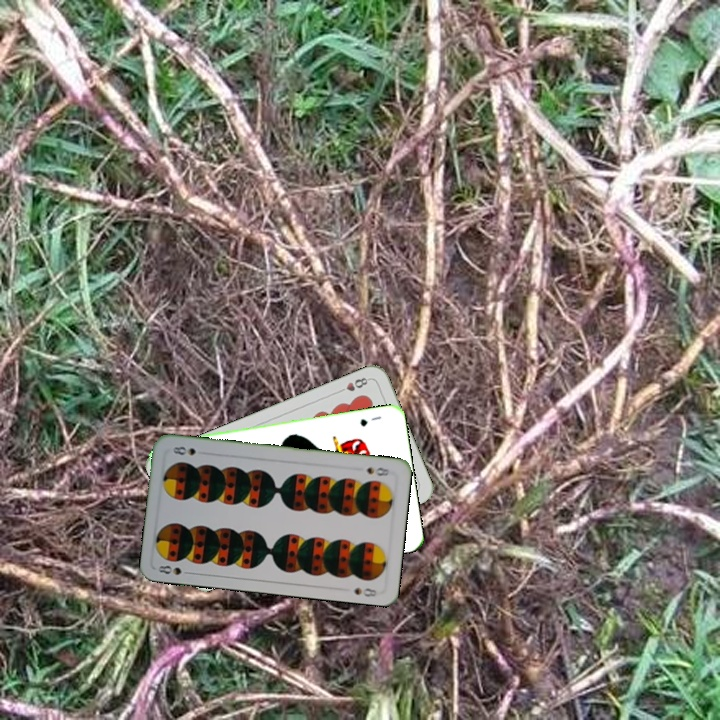GU: (356, 412, 383, 429)
H8: (334, 373, 372, 396)
S8: (154, 561, 195, 577), (363, 463, 395, 479)
